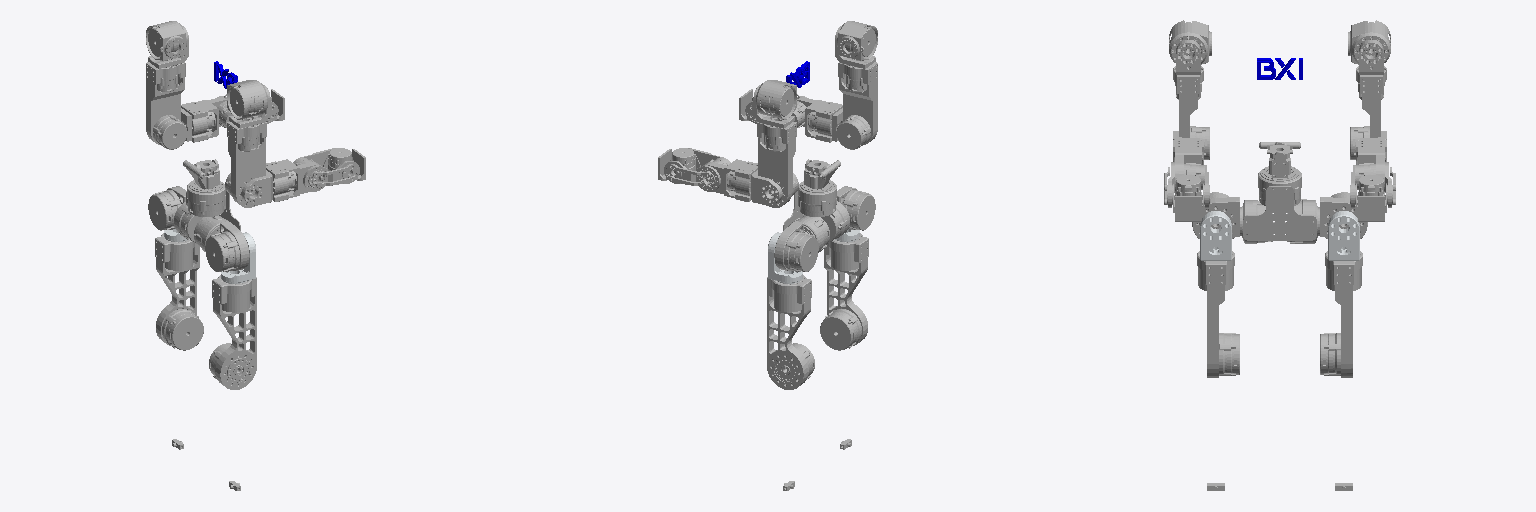
--- What the picture shows (computed from the rendered views, not written in the file) ---
Views: 3 orthographic renders of the robot side by side, from view 1: azimuth 30°, elevation 25°; view 2: azimuth 150°, elevation 25°; view 3: azimuth 270°, elevation 25°.
Robot: elf3 — 31 links, 30 joints (20 revolute, 10 fixed); root link base_link; default pose: all joints at 0.
Links seen in each view (by area): view 1: r_hip_z_link, l_hip_z_link, l_shld_z_link, waist_z_link, r_wrist_x_link, r_shld_z_link, r_hip_y_link, l_wrist_x_link, r_shld_y_link, l_shld_y_link, l_hip_y_link, r_elb_y_link (+3 smaller); view 2: l_hip_z_link, r_hip_z_link, r_shld_z_link, waist_z_link, l_wrist_x_link, l_shld_z_link, l_hip_y_link, r_wrist_x_link, l_shld_y_link, r_shld_y_link, r_hip_y_link, l_elb_y_link (+3 smaller); view 3: waist_z_link, l_hip_z_link, r_hip_z_link, l_wrist_x_link, r_wrist_x_link, l_shld_z_link, r_shld_z_link, l_hip_x_link, r_hip_x_link, r_shld_y_link, l_shld_y_link, l_hip_y_link (+9 smaller).
Link boxes in pixels (x1,y1,x2,y2): r_hip_z_link: [209, 275, 256, 389]; l_hip_z_link: [155, 233, 203, 350]; l_shld_z_link: [146, 62, 186, 149]; waist_z_link: [174, 180, 240, 251]; r_wrist_x_link: [266, 148, 359, 201]; r_shld_z_link: [225, 122, 266, 207]; r_hip_y_link: [205, 221, 249, 271]; l_wrist_x_link: [181, 96, 278, 142]; r_shld_y_link: [224, 80, 267, 119]; l_shld_y_link: [146, 21, 186, 60]; l_hip_y_link: [148, 186, 186, 230]; r_elb_y_link: [241, 170, 272, 205]; l_hip_z_link: [767, 275, 814, 389]; r_hip_z_link: [820, 233, 868, 350]; r_shld_z_link: [837, 62, 877, 149]; waist_z_link: [783, 180, 849, 252]; l_wrist_x_link: [664, 148, 757, 201]; l_shld_z_link: [757, 122, 798, 207]; l_hip_y_link: [774, 221, 818, 271]; r_wrist_x_link: [745, 96, 842, 142]; l_shld_y_link: [756, 80, 799, 119]; r_shld_y_link: [837, 21, 877, 60]; r_hip_y_link: [837, 186, 875, 230]; l_elb_y_link: [751, 170, 782, 205]; waist_z_link: [1242, 166, 1317, 243]; l_hip_z_link: [1320, 251, 1362, 377]; r_hip_z_link: [1197, 251, 1239, 377]; l_wrist_x_link: [1351, 140, 1395, 207]; r_wrist_x_link: [1164, 140, 1208, 207]; l_shld_z_link: [1350, 66, 1386, 159]; r_shld_z_link: [1173, 66, 1209, 159]; l_hip_x_link: [1328, 211, 1359, 260]; r_hip_x_link: [1200, 211, 1231, 260]; r_shld_y_link: [1169, 20, 1211, 66]; l_shld_y_link: [1348, 20, 1390, 66]; l_hip_y_link: [1318, 192, 1367, 238].
Bounding box of the posed robot: 0.3799 × 0.506 × 1.12 m (x, y, z).
Meshes: 30 distinct files referenced, 26 mesh visuals loaded (26 binary STL); not drawn: 5 (reference not matched to a file when rendering).

The robot description file, URDF, robot "elf3":
<?xml version="1.0" encoding="utf-8"?>
<robot
  name="elf3">
  <link
    name="base_link">
    <inertial>
       <origin
        xyz="-0.00015 0.000741 -0.051018"
        rpy="0 0 0" />
      <mass
        value="8.626914" />
      <inertia
        ixx="0.110724"
        ixy="-5e-06"
        ixz="-0.002238"
        iyy="0.064203"
        iyz="-0.000637"
        izz="0.066922" />
    </inertial>
    <visual>
      <origin
        xyz="0 0 0"
        rpy="0 0 0" />
      <geometry>
        <mesh
          filename="../meshes/base_link.STL" />
      </geometry>
      <material
        name="">
        <color
          rgba="0.75294 0.75294 0.75294 1" />
      </material>
    </visual>
    <collision>
      <origin
        xyz="0 0 0"
        rpy="0 0 0" />
      <geometry>
        <mesh
          filename="../meshes/base_link.STL" />
      </geometry>
    </collision>
  </link>
  <link
    name="waist_y_link">
    <inertial>
       <origin
        xyz="0.0 0.0 0.0"
        rpy="0 0 0" />
      <mass
        value="0.053167" />
      <inertia
        ixx="1e-05"
        ixy="0.0"
        ixz="0.0"
        iyy="1e-05"
        iyz="0.0"
        izz="1.8e-05" />
    </inertial>
    <visual>
      <origin
        xyz="0 0 0"
        rpy="0 0 0" />
      <geometry>
        <mesh
          filename="../meshes/waist_y_link.STL" />
      </geometry>
      <material
        name="">
        <color
          rgba="0.75294 0.75294 0.75294 1" />
      </material>
    </visual>
    <!-- <collision>
      <origin
        xyz="0 0 0"
        rpy="0 0 0" />
      <geometry>
        <mesh
          filename="../meshes/waist_y_link.STL" />
      </geometry>
    </collision> -->
  </link>
  <joint
    name="waist_y_joint"
    type="fixed">
    <origin
      xyz="0 0 -0.226"
      rpy="0 0 0" />
    <parent
      link="base_link" />
    <child
      link="waist_y_link" />
    <axis
      xyz="0 1 0" />
    <limit
      lower="-0.5235"
      upper="0.5235"
      effort="100"
      velocity="18" />
  </joint>
  <link
    name="waist_x_link">
    <inertial>
       <origin
        xyz="-0.007951 0.0 -0.02213"
        rpy="0 0 0" />
      <mass
        value="0.249175" />
      <inertia
        ixx="0.000122"
        ixy="0.0"
        ixz="4.6e-05"
        iyy="0.000181"
        iyz="0.0"
        izz="0.000176" />
    </inertial>
    <visual>
      <origin
        xyz="0 0 0"
        rpy="0 0 0" />
      <geometry>
        <mesh
          filename="../meshes/waist_x_link.STL" />
      </geometry>
      <material
        name="">
        <color
          rgba="0.752941176470588 0.752941176470588 0.752941176470588 1" />
      </material>
    </visual>
    <!-- <collision>
      <origin
        xyz="0 0 0"
        rpy="0 0 0" />
      <geometry>
        <mesh
          filename="../meshes/waist_x_link.STL" />
      </geometry>
    </collision> -->
  </link>
  <joint
    name="waist_x_joint"
    type="fixed">
    <origin
      xyz="0 0 0"
      rpy="0 0 0" />
    <parent
      link="waist_y_link" />
    <child
      link="waist_x_link" />
    <axis
      xyz="1 0 0" />
    <limit
      lower="-0.2617"
      upper="0.2617"
      effort="100"
      velocity="18" />
  </joint>
  <link
    name="waist_z_link">
    <inertial>
       <origin
        xyz="0.000904 1.2e-05 -0.139062"
        rpy="0 0 0" />
      <mass
        value="4.453262" />
      <inertia
        ixx="0.020324"
        ixy="-2e-06"
        ixz="1.1e-05"
        iyy="0.013729"
        iyz="-3e-06"
        izz="0.013433" />
    </inertial>
    <visual>
      <origin
        xyz="0 0 0"
        rpy="0 0 0" />
      <geometry>
        <mesh
          filename="../meshes/waist_z_link.STL" />
      </geometry>
      <material
        name="">
        <color
          rgba="0.752941176470588 0.752941176470588 0.752941176470588 1" />
      </material>
    </visual>
    <collision>
      <origin
        xyz="0 0 0"
        rpy="0 0 0" />
      <geometry>
        <mesh
          filename="../meshes/waist_z_link.STL" />
      </geometry>
    </collision>
  </link>
  <joint
    name="waist_z_joint"
    type="fixed">
    <origin
      xyz="0 0 0"
      rpy="0 0 0" />
    <parent
      link="waist_x_link" />
    <child
      link="waist_z_link" />
    <axis
      xyz="0 0 1" />
    <limit
      lower="-1.57"
      upper="1.57"
      effort="100"
      velocity="18" />
  </joint>
  <link
    name="l_hip_y_link">
    <inertial>
       <origin
        xyz="-0.017998 -0.002549 0.000878"
        rpy="0 0 0" />
      <mass
        value="1.676311" />
      <inertia
        ixx="0.00273"
        ixy="7.9e-05"
        ixz="-2.5e-05"
        iyy="0.001915"
        iyz="4.9e-05"
        izz="0.002048" />
    </inertial>
    <visual>
      <origin
        xyz="0 0 0"
        rpy="0 0 0" />
      <geometry>
        <mesh
          filename="../meshes/l_hip_y_link.STL" />
      </geometry>
      <material
        name="">
        <color
          rgba="0.752941176470588 0.752941176470588 0.752941176470588 1" />
      </material>
    </visual>
    <collision>
      <origin
        xyz="0 0 0"
        rpy="0 0 0" />
      <geometry>
        <mesh
          filename="../meshes/l_hip_y_link.STL" />
      </geometry>
    </collision>
  </link>
  <joint
    name="l_hip_y_joint"
    type="revolute">
    <origin
      xyz="0 0.14 -0.1685"
      rpy="0 0 0" />
    <parent
      link="waist_z_link" />
    <child
      link="l_hip_y_link" />
    <axis
      xyz="0 1 0" />
    <limit
      lower="-1.57"
      upper="1.57"
      effort="100"
      velocity="18" />
  </joint>
  <link
    name="l_hip_x_link">
    <inertial>
       <origin
        xyz="0.019502 0.0 -0.033436"
        rpy="0 0 0" />
      <mass
        value="0.503258" />
      <inertia
        ixx="0.000797"
        ixy="0.0"
        ixz="-0.00012"
        iyy="0.000739"
        iyz="0.0"
        izz="0.00037" />
    </inertial>
    <visual>
      <origin
        xyz="0 0 0"
        rpy="0 0 0" />
      <geometry>
        <mesh
          filename="../meshes/l_hip_x_link.STL" />
      </geometry>
      <material
        name="">
        <color
          rgba="0.898039215686275 0.917647058823529 0.929411764705882 1" />
      </material>
    </visual>
    <!-- <collision>
      <origin
        xyz="0 0 0"
        rpy="0 0 0" />
      <geometry>
        <mesh
          filename="../meshes/l_hip_x_link.STL" />
      </geometry>
    </collision> -->
  </link>
  <joint
    name="l_hip_x_joint"
    type="revolute">
    <origin
      xyz="0 0 0"
      rpy="0 0 0" />
    <parent
      link="l_hip_y_link" />
    <child
      link="l_hip_x_link" />
    <axis
      xyz="1 0 0" />
    <limit
      lower="-0.5235"
      upper="1.57"
      effort="100"
      velocity="18" />
  </joint>
  <link
    name="l_hip_z_link">
    <inertial>
       <origin
        xyz="0.001015 -0.00614 -0.230109"
        rpy="0 0 0" />
      <mass
        value="3.037012" />
      <inertia
        ixx="0.032187"
        ixy="-3.9e-05"
        ixz="4.2e-05"
        iyy="0.033337"
        iyz="-0.001791"
        izz="0.003471" />
    </inertial>
    <visual>
      <origin
        xyz="0 0 0"
        rpy="0 0 0" />
      <geometry>
        <mesh
          filename="../meshes/l_hip_z_link.STL" />
      </geometry>
      <material
        name="">
        <color
          rgba="0.752941176470588 0.752941176470588 0.752941176470588 1" />
      </material>
    </visual>
    <collision>
      <origin
        xyz="0 0 0"
        rpy="0 0 0" />
      <geometry>
        <mesh
          filename="../meshes/l_hip_z_link.STL" />
      </geometry>
    </collision>
  </link>
  <joint
    name="l_hip_z_joint"
    type="revolute">
    <origin
      xyz="0 0 0"
      rpy="0 0 0" />
    <parent
      link="l_hip_x_link" />
    <child
      link="l_hip_z_link" />
    <axis
      xyz="0 0 1" />
    <limit
      lower="-1.57"
      upper="1.57"
      effort="60"
      velocity="18" />
  </joint>
  <link
    name="l_knee_y_link">
    <inertial>
       <origin
        xyz="0.007103 0.008776 -0.144218"
        rpy="0 0 0" />
      <mass
        value="1.905959" />
      <inertia
        ixx="0.013863"
        ixy="8.5e-05"
        ixz="9.1e-05"
        iyy="0.013532"
        iyz="-0.001505"
        izz="0.001285" />
    </inertial>
    <visual>
      <origin
        xyz="0 0 0"
        rpy="0 0 0" />
      <geometry>
        <mesh
          filename="../meshes/l_knee_y_link.STL" />
      </geometry>
      <material
        name="">
        <color
          rgba="0.752941176470588 0.752941176470588 0.752941176470588 1" />
      </material>
    </visual>
    <collision>
      <origin
        xyz="0 0 0.04"
        rpy="0 0 0" />
      <geometry>
        <mesh
          filename="../meshes/l_knee_y_link.STL" />
      </geometry>
    </collision>
  </link>
  <joint
    name="l_knee_y_joint"
    type="revolute">
    <origin
      xyz="0 0 -0.32"
      rpy="0 0 0" />
    <parent
      link="l_hip_z_link" />
    <child
      link="l_knee_y_link" />
    <axis
      xyz="0 1 0" />
    <limit
      lower="-0.0872"
      upper="2.6178"
      effort="150"
      velocity="18" />
  </joint>
  <link
    name="l_ankle_y_link">
    <inertial>
       <origin
        xyz="0.0 0.0 0.0"
        rpy="0 0 0" />
      <mass
        value="0.014897" />
      <inertia
        ixx="2e-06"
        ixy="0.0"
        ixz="0.0"
        iyy="1e-06"
        iyz="0.0"
        izz="2e-06" />
    </inertial>
    <visual>
      <origin
        xyz="0 0 0"
        rpy="0 0 0" />
      <geometry>
        <mesh
          filename="../meshes/l_ankle_y_link.STL" />
      </geometry>
      <material
        name="">
        <color
          rgba="0.752941176470588 0.752941176470588 0.752941176470588 1" />
      </material>
    </visual>
    <!-- <collision>
      <origin
        xyz="0 0 0"
        rpy="0 0 0" />
      <geometry>
        <mesh
          filename="../meshes/l_ankle_y_link.STL" />
      </geometry>
    </collision> -->
  </link>
  <joint
    name="l_ankle_y_joint"
    type="revolute">
    <origin
      xyz="0 0 -0.32"
      rpy="0 0 0" />
    <parent
      link="l_knee_y_link" />
    <child
      link="l_ankle_y_link" />
    <axis
      xyz="0 1 0" />
    <limit
      lower="-0.8726"
      upper="0.8726"
      effort="50"
      velocity="18" />
  </joint>
  <link
    name="l_ankle_x_link">
    <inertial>
       <origin
        xyz="0.017869 0.0 -0.026082"
        rpy="0 0 0" />
      <mass
        value="0.824682" />
      <inertia
        ixx="0.000458"
        ixy="0.0"
        ixz="5e-05"
        iyy="0.003386"
        iyz="0.0"
        izz="0.003747" />
    </inertial>
    <visual>
      <origin
        xyz="0 0 -0.03"
        rpy="0 0 0" />
      <geometry>
        <mesh
          filename="../meshes/foot.STL" />
      </geometry>
      <material
        name="">
        <color
          rgba="0.752941176470588 0.752941176470588 0.752941176470588 1" />
      </material>
    </visual>
    <collision>
      <origin
        xyz="0 0 -0.03"
        rpy="0 0 0" />
      <geometry>
        <mesh
          filename="../meshes/foot.STL" />
      </geometry>
    </collision>
  </link>
  <joint
    name="l_ankle_x_joint"
    type="revolute">
    <origin
      xyz="0 0 0"
      rpy="0 0 0" />
    <parent
      link="l_ankle_y_link" />
    <child
      link="l_ankle_x_link" />
    <axis
      xyz="1 0 0" />
    <limit
      lower="-0.349"
      upper="0.349"
      effort="20"
      velocity="18" />
  </joint>
  <link
    name="r_hip_y_link">
    <inertial>
       <origin
        xyz="-0.017998 0.002549 0.000878"
        rpy="0 0 0" />
      <mass
        value="1.67631" />
      <inertia
        ixx="0.00273"
        ixy="-7.9e-05"
        ixz="-2.5e-05"
        iyy="0.001915"
        iyz="-4.9e-05"
        izz="0.002048" />
    </inertial>
    <visual>
      <origin
        xyz="0 0 0"
        rpy="0 0 0" />
      <geometry>
        <mesh
          filename="../meshes/r_hip_y_link.STL" />
      </geometry>
      <material
        name="">
        <color
          rgba="0.752941176470588 0.752941176470588 0.752941176470588 1" />
      </material>
    </visual>
    <collision>
      <origin
        xyz="0 0 0"
        rpy="0 0 0" />
      <geometry>
        <mesh
          filename="../meshes/r_hip_y_link.STL" />
      </geometry>
    </collision>
  </link>
  <joint
    name="r_hip_y_joint"
    type="revolute">
    <origin
      xyz="0 -0.14 -0.1685"
      rpy="0 0 0" />
    <parent
      link="waist_z_link" />
    <child
      link="r_hip_y_link" />
    <axis
      xyz="0 1 0" />
    <limit
      lower="-1.57"
      upper="1.57"
      effort="100"
      velocity="18" />
  </joint>
  <link
    name="r_hip_x_link">
    <inertial>
       <origin
        xyz="0.019502 0.0 -0.033436"
        rpy="0 0 0" />
      <mass
        value="0.503259" />
      <inertia
        ixx="0.000797"
        ixy="0.0"
        ixz="-0.00012"
        iyy="0.000739"
        iyz="0.0"
        izz="0.00037" />
    </inertial>
    <visual>
      <origin
        xyz="0 0 0"
        rpy="0 0 0" />
      <geometry>
        <mesh
          filename="../meshes/r_hip_x_link.STL" />
      </geometry>
      <material
        name="">
        <color
          rgba="0.898039215686275 0.917647058823529 0.929411764705882 1" />
      </material>
    </visual>
    <!-- <collision>
      <origin
        xyz="0 0 0"
        rpy="0 0 0" />
      <geometry>
        <mesh
          filename="../meshes/r_hip_x_link.STL" />
      </geometry>
    </collision> -->
  </link>
  <joint
    name="r_hip_x_joint"
    type="revolute">
    <origin
      xyz="0 0 0"
      rpy="0 0 0" />
    <parent
      link="r_hip_y_link" />
    <child
      link="r_hip_x_link" />
    <axis
      xyz="1 0 0" />
    <limit
      lower="-1.57"
      upper="0.5235"
      effort="100"
      velocity="18" />
  </joint>
  <link
    name="r_hip_z_link">
    <inertial>
       <origin
        xyz="0.001015 0.00614 -0.230109"
        rpy="0 0 0" />
      <mass
        value="3.037014" />
      <inertia
        ixx="0.032187"
        ixy="3.9e-05"
        ixz="4.2e-05"
        iyy="0.033337"
        iyz="0.001791"
        izz="0.003471" />
    </inertial>
    <visual>
      <origin
        xyz="0 0 0"
        rpy="0 0 0" />
      <geometry>
        <mesh
          filename="../meshes/r_hip_z_link.STL" />
      </geometry>
      <material
        name="">
        <color
          rgba="0.752941176470588 0.752941176470588 0.752941176470588 1" />
      </material>
    </visual>
    <collision>
      <origin
        xyz="0 0 0"
        rpy="0 0 0" />
      <geometry>
        <mesh
          filename="../meshes/r_hip_z_link.STL" />
      </geometry>
    </collision>
  </link>
  <joint
    name="r_hip_z_joint"
    type="revolute">
    <origin
      xyz="0 0 0"
      rpy="0 0 0" />
    <parent
      link="r_hip_x_link" />
    <child
      link="r_hip_z_link" />
    <axis
      xyz="0 0 1" />
    <limit
      lower="-1.57"
      upper="1.57"
      effort="60"
      velocity="18" />
  </joint>
  <link
    name="r_knee_y_link">
    <inertial>
       <origin
        xyz="0.007103 -0.008776 -0.144218"
        rpy="0 0 0" />
      <mass
        value="1.905958" />
      <inertia
        ixx="0.013863"
        ixy="-8.5e-05"
        ixz="9.1e-05"
        iyy="0.013532"
        iyz="0.001505"
        izz="0.001285" />
    </inertial>
    <visual>
      <origin
        xyz="0 0 0"
        rpy="0 0 0" />
      <geometry>
        <mesh
          filename="../meshes/r_knee_y_link.STL" />
      </geometry>
      <material
        name="">
        <color
          rgba="0.752941176470588 0.752941176470588 0.752941176470588 1" />
      </material>
    </visual>
    <collision>
      <origin
        xyz="0 0 0.04"
        rpy="0 0 0" />
      <geometry>
        <mesh
          filename="../meshes/r_knee_y_link.STL" />
      </geometry>
    </collision>
  </link>
  <joint
    name="r_knee_y_joint"
    type="revolute">
    <origin
      xyz="0 0 -0.32"
      rpy="0 0 0" />
    <parent
      link="r_hip_z_link" />
    <child
      link="r_knee_y_link" />
    <axis
      xyz="0 1 0" />
    <limit
      lower="-0.0872"
      upper="2.6178"
      effort="150"
      velocity="18" />
  </joint>
  <link
    name="r_ankle_y_link">
    <inertial>
       <origin
        xyz="0.0 0.0 0.0"
        rpy="0 0 0" />
      <mass
        value="0.014897" />
      <inertia
        ixx="2e-06"
        ixy="0.0"
        ixz="0.0"
        iyy="1e-06"
        iyz="0.0"
        izz="2e-06" />
    </inertial>
    <visual>
      <origin
        xyz="0 0 0"
        rpy="0 0 0" />
      <geometry>
        <mesh
          filename="../meshes/r_ankle_y_link.STL" />
      </geometry>
      <material
        name="">
        <color
          rgba="0.752941176470588 0.752941176470588 0.752941176470588 1" />
      </material>
    </visual>
    <!-- <collision>
      <origin
        xyz="0 0 0"
        rpy="0 0 0" />
      <geometry>
        <mesh
          filename="../meshes/r_ankle_y_link.STL" />
      </geometry>
    </collision> -->
  </link>
  <joint
    name="r_ankle_y_joint"
    type="revolute">
    <origin
      xyz="0 0 -0.32"
      rpy="0 0 0" />
    <parent
      link="r_knee_y_link" />
    <child
      link="r_ankle_y_link" />
    <axis
      xyz="0 1 0" />
    <limit
      lower="-0.8726"
      upper="0.8726"
      effort="50"
      velocity="18" />
  </joint>
  <link
    name="r_ankle_x_link">
    <inertial>
       <origin
        xyz="0.017869 0.0 -0.026082"
        rpy="0 0 0" />
      <mass
        value="0.824682" />
      <inertia
        ixx="0.000458"
        ixy="0.0"
        ixz="5e-05"
        iyy="0.003386"
        iyz="0.0"
        izz="0.003747" />
    </inertial>
    <visual>
      <origin
        xyz="0 0 -0.03"
        rpy="0 0 0" />
      <geometry>
        <mesh
          filename="../meshes/foot.STL" />
      </geometry>
      <material
        name="">
        <color
          rgba="0.752941176470588 0.752941176470588 0.752941176470588 1" />
      </material>
    </visual>
    <collision>
      <origin
        xyz="0 0 -0.03"
        rpy="0 0 0" />
      <geometry>
        <mesh
          filename="../meshes/foot.STL" />
      </geometry>
    </collision>
  </link>
  <joint
    name="r_ankle_x_joint"
    type="revolute">
    <origin
      xyz="0 0 0"
      rpy="0 0 0" />
    <parent
      link="r_ankle_y_link" />
    <child
      link="r_ankle_x_link" />
    <axis
      xyz="1 0 0" />
    <limit
      lower="-0.349"
      upper="0.349"
      effort="20"
      velocity="18" />
  </joint>
  <link
    name="l_shld_y_link">
    <inertial>
       <origin
        xyz="0.008071 -0.003573 -5.8e-05"
        rpy="0 0 0" />
      <mass
        value="1.063" />
      <inertia
        ixx="0.001215"
        ixy="-3.2e-05"
        ixz="-2e-06"
        iyy="0.000887"
        iyz="0.0"
        izz="0.000942" />
    </inertial>
    <visual>
      <origin
        xyz="0 0 0"
        rpy="0 0 0" />
      <geometry>
        <mesh
          filename="../meshes/l_shld_y_link.STL" />
      </geometry>
      <material
        name="">
        <color
          rgba="0.752941176470588 0.752941176470588 0.752941176470588 1" />
      </material>
    </visual>
    <collision>
      <origin
        xyz="0 0 0"
        rpy="0 0 0" />
      <geometry>
        <mesh
          filename="../meshes/l_shld_y_link.STL" />
      </geometry>
    </collision>
  </link>
  <joint
    name="l_shld_y_joint"
    type="revolute">
    <origin
      xyz="0 0.2 0.035"
      rpy="0 0 0" />
    <parent
      link="base_link" />
    <child
      link="l_shld_y_link" />
    <axis
      xyz="0 1 0" />
    <limit
      lower="-3.14"
      upper="1.57"
      effort="60"
      velocity="18" />
  </joint>
  <link
    name="l_shld_x_link">
    <inertial>
       <origin
        xyz="0.023699 0.0 -0.034476"
        rpy="0 0 0" />
      <mass
        value="0.236185" />
      <inertia
        ixx="0.000216"
        ixy="0.0"
        ixz="-9.2e-05"
        iyy="0.000309"
        iyz="0.0"
        izz="0.00022" />
    </inertial>
    <visual>
      <origin
        xyz="0 0 0"
        rpy="0 0 0" />
      <geometry>
        <mesh
          filename="../meshes/l_shld_x_link.STL" />
      </geometry>
      <material
        name="">
        <color
          rgba="0.752941176470588 0.752941176470588 0.752941176470588 1" />
      </material>
    </visual>
    <!-- <collision>
      <origin
        xyz="0 0 0"
        rpy="0 0 0" />
      <geometry>
        <mesh
          filename="../meshes/l_shld_x_link.STL" />
      </geometry>
    </collision> -->
  </link>
  <joint
    name="l_shld_x_joint"
    type="revolute">
    <origin
      xyz="0 0 0"
      rpy="0 0 0" />
    <parent
      link="l_shld_y_link" />
    <child
      link="l_shld_x_link" />
    <axis
      xyz="1 0 0" />
    <limit
      lower="-0.349"
      upper="1.57"
      effort="60"
      velocity="18" />
  </joint>
  <link
    name="l_shld_z_link">
    <inertial>
       <origin
        xyz="-2e-06 -0.001624 -0.171999"
        rpy="0 0 0" />
      <mass
        value="2.15781" />
      <inertia
        ixx="0.010569"
        ixy="0.0"
        ixz="0.0"
        iyy="0.011196"
        iyz="-0.000453"
        izz="0.001718" />
    </inertial>
    <visual>
      <origin
        xyz="0 0 0"
        rpy="0 0 0" />
      <geometry>
        <mesh
          filename="../meshes/l_shld_z_link.STL" />
      </geometry>
      <material
        name="">
        <color
          rgba="0.752941176470588 0.752941176470588 0.752941176470588 1" />
      </material>
    </visual>
    <collision>
      <origin
        xyz="0 0 0"
        rpy="0 0 0" />
      <geometry>
        <mesh
          filename="../meshes/l_shld_z_link.STL" />
      </geometry>
    </collision>
  </link>
  <joint
    name="l_shld_z_joint"
    type="revolute">
    <origin
      xyz="0 0 0"
      rpy="0 0 0" />
    <parent
      link="l_shld_x_link" />
    <child
      link="l_shld_z_link" />
    <axis
      xyz="0 0 1" />
    <limit
      lower="-1.57"
      upper="1.57"
      effort="25"
      velocity="18" />
  </joint>
  <link
    name="l_elb_y_link">
    <inertial>
       <origin
        xyz="0.033158 0.01458 0.0"
        rpy="0 0 0" />
      <mass
        value="0.277719" />
      <inertia
        ixx="0.00019"
        ixy="6.3e-05"
        ixz="0.0"
        iyy="0.00028"
        iyz="0.0"
        izz="0.00025" />
    </inertial>
    <visual>
      <origin
        xyz="0 0 0"
        rpy="0 0 0" />
      <geometry>
        <mesh
          filename="../meshes/l_elb_y_link.STL" />
      </geometry>
      <material
        name="">
        <color
          rgba="0.752941176470588 0.752941176470588 0.752941176470588 1" />
      </material>
    </visual>
    <!-- <collision>
      <origin
        xyz="0 0 0"
        rpy="0 0 0" />
      <geometry>
        <mesh
          filename="../meshes/l_elb_y_link.STL" />
      </geometry>
    </collision> -->
  </link>
  <joint
    name="l_elb_y_joint"
    type="revolute">
    <origin
      xyz="0 0 -0.2405"
      rpy="0 0 0" />
    <parent
      link="l_shld_z_link" />
    <child
      link="l_elb_y_link" />
    <axis
      xyz="0 1 0" />
    <limit
      lower="-1.0471"
      upper="1.57"
      effort="60"
      velocity="18" />
  </joint>
  <link
    name="l_wrist_x_link">
    <inertial>
       <origin
        xyz="-0.125678 0.00065 0.0"
        rpy="0 0 0" />
      <mass
        value="1.729445" />
      <inertia
        ixx="0.001524"
        ixy="-3.9e-05"
        ixz="3e-06"
        iyy="0.004851"
        iyz="0.0"
        izz="0.005064" />
    </inertial>
    <visual>
      <origin
        xyz="0 0 0"
        rpy="0 0 0" />
      <geometry>
        <mesh
          filename="../meshes/l_wrist_x_link.STL" />
      </geometry>
      <material
        name="">
        <color
          rgba="0.752941176470588 0.752941176470588 0.752941176470588 1" />
      </material>
    </visual>
    <collision>
      <origin
        xyz="0 0 0"
        rpy="0 0 0" />
      <geometry>
        <mesh
          filename="../meshes/l_wrist_x_link.STL" />
      </geometry>
    </collision>
  </link>
  <joint
    name="l_wrist_x_joint"
    type="fixed">
    <origin
      xyz="0.2655 0 0"
      rpy="0 0 0" />
    <parent
      link="l_elb_y_link" />
    <child
      link="l_wrist_x_link" />
    <axis
      xyz="1 0 0" />
    <limit
      lower="-1.57"
      upper="1.57"
      effort="25"
      velocity="18" />
  </joint>
  <link
    name="l_wrist_y_link">
    <inertial>
       <origin
        xyz="3e-06 -1.5e-05 0.001495"
        rpy="0 0 0" />
      <mass
        value="0.754134" />
      <inertia
        ixx="0.000695"
        ixy="0.0"
        ixz="0.0"
        iyy="0.000429"
        iyz="0.0"
        izz="0.000654" />
    </inertial>
    <visual>
      <origin
        xyz="0 0 0"
        rpy="0 0 0" />
      <geometry>
        <mesh
          filename="../meshes/l_wrist_y_link.STL" />
      </geometry>
      <material
        name="">
        <color
          rgba="0.752941176470588 0.752941176470588 0.752941176470588 1" />
      </material>
    </visual>
    <!-- <collision>
      <origin
        xyz="0 0 0"
        rpy="0 0 0" />
      <geometry>
        <mesh
          filename="../meshes/l_wrist_y_link.STL" />
      </geometry>
    </collision> -->
  </link>
  <joint
    name="l_wrist_y_joint"
    type="fixed">
    <origin
      xyz="0 0 0"
      rpy="0 0 0" />
    <parent
      link="l_wrist_x_link" />
    <child
      link="l_wrist_y_link" />
    <axis
      xyz="0 1 0" />
    <limit
      lower="-0.7853"
      upper="0.7853"
      effort="7"
      velocity="18" />
  </joint>
  <link
    name="l_wrist_z_link">
    <inertial>
       <origin
        xyz="0.034746 0.0 -0.020653"
        rpy="0 0 0" />
      <mass
        value="0.113662" />
      <inertia
        ixx="6.5e-05"
        ixy="0.0"
        ixz="-2.5e-05"
        iyy="0.000104"
        iyz="0.0"
        izz="9.7e-05" />
    </inertial>
    <visual>
      <origin
        xyz="0 0 0"
        rpy="0 0 0" />
      <geometry>
        <mesh
          filename="../meshes/l_wrist_z_link.STL" />
      </geometry>
      <material
        name="">
        <color
          rgba="0.752941176470588 0.752941176470588 0.752941176470588 1" />
      </material>
    </visual>
    <!-- <collision>
      <origin
        xyz="0 0 0"
        rpy="0 0 0" />
      <geometry>
        <mesh
          filename="../meshes/l_wrist_z_link.STL" />
      </geometry>
    </collision> -->
  </link>
  <joint
    name="l_wrist_z_joint"
    type="fixed">
    <origin
      xyz="0 0 0"
      rpy="0 0 0" />
    <parent
      link="l_wrist_y_link" />
    <child
      link="l_wrist_z_link" />
    <axis
      xyz="0 0 1" />
    <limit
      lower="-0.7853"
      upper="0.7853"
      effort="7"
      velocity="18" />
  </joint>
  <link
    name="r_shld_y_link">
    <inertial>
       <origin
        xyz="0.008071 0.003573 -5.8e-05"
        rpy="0 0 0" />
      <mass
        value="1.063" />
      <inertia
        ixx="0.001215"
        ixy="3.2e-05"
        ixz="-2e-06"
        iyy="0.000887"
        iyz="0.0"
        izz="0.000942" />
    </inertial>
    <visual>
      <origin
        xyz="0 0 0"
        rpy="0 0 0" />
      <geometry>
        <mesh
          filename="../meshes/r_shld_y_link.STL" />
      </geometry>
      <material
        name="">
        <color
          rgba="0.752941176470588 0.752941176470588 0.752941176470588 1" />
      </material>
    </visual>
    <collision>
      <origin
        xyz="0 0 0"
        rpy="0 0 0" />
      <geometry>
        <mesh
          filename="../meshes/r_shld_y_link.STL" />
      </geometry>
    </collision>
  </link>
  <joint
    name="r_shld_y_joint"
    type="revolute">
    <origin
      xyz="0 -0.2 0.035"
      rpy="0 0 0" />
    <parent
      link="base_link" />
    <child
      link="r_shld_y_link" />
    <axis
      xyz="0 1 0" />
    <limit
      lower="-3.14"
      upper="1.57"
      effort="60"
      velocity="18" />
  </joint>
  <link
    name="r_shld_x_link">
    <inertial>
       <origin
        xyz="0.023699 0.0 -0.034476"
        rpy="0 0 0" />
      <mass
        value="0.236185" />
      <inertia
        ixx="0.000216"
        ixy="0.0"
        ixz="-9.2e-05"
        iyy="0.000309"
        iyz="0.0"
        izz="0.00022" />
    </inertial>
    <visual>
      <origin
        xyz="0 0 0"
        rpy="0 0 0" />
      <geometry>
        <mesh
          filename="../meshes/r_shld_x_link.STL" />
      </geometry>
      <material
        name="">
        <color
          rgba="0.752941176470588 0.752941176470588 0.752941176470588 1" />
      </material>
    </visual>
    <!-- <collision>
      <origin
        xyz="0 0 0"
        rpy="0 0 0" />
      <geometry>
        <mesh
          filename="../meshes/r_shld_x_link.STL" />
      </geometry>
    </collision> -->
  </link>
  <joint
    name="r_shld_x_joint"
    type="revolute">
    <origin
      xyz="0 0 0"
      rpy="0 0 0" />
    <parent
      link="r_shld_y_link" />
    <child
      link="r_shld_x_link" />
    <axis
      xyz="1 0 0" />
    <limit
      lower="-1.57"
      upper="0.349"
      effort="60"
      velocity="18" />
  </joint>
  <link
    name="r_shld_z_link">
    <inertial>
       <origin
        xyz="-2e-06 0.001624 -0.171999"
        rpy="0 0 0" />
      <mass
        value="2.15781" />
      <inertia
        ixx="0.010569"
        ixy="0.0"
        ixz="0.0"
        iyy="0.011196"
        iyz="0.000453"
        izz="0.001718" />
    </inertial>
    <visual>
      <origin
        xyz="0 0 0"
        rpy="0 0 0" />
      <geometry>
        <mesh
          filename="../meshes/r_shld_z_link.STL" />
      </geometry>
      <material
        name="">
        <color
          rgba="0.752941176470588 0.752941176470588 0.752941176470588 1" />
      </material>
    </visual>
    <collision>
      <origin
        xyz="0 0 0"
        rpy="0 0 0" />
      <geometry>
        <mesh
          filename="../meshes/r_shld_z_link.STL" />
      </geometry>
    </collision>
  </link>
  <joint
    name="r_shld_z_joint"
    type="revolute">
    <origin
      xyz="0 0 0"
      rpy="0 0 0" />
    <parent
      link="r_shld_x_link" />
    <child
      link="r_shld_z_link" />
    <axis
      xyz="0 0 1" />
    <limit
      lower="-1.57"
      upper="1.57"
      effort="25"
      velocity="18" />
  </joint>
  <link
    name="r_elb_y_link">
    <inertial>
       <origin
        xyz="0.033158 -0.01458 0.0"
        rpy="0 0 0" />
      <mass
        value="0.277718" />
      <inertia
        ixx="0.00019"
        ixy="-6.3e-05"
        ixz="0.0"
        iyy="0.00028"
        iyz="0.0"
        izz="0.00025" />
    </inertial>
    <visual>
      <origin
        xyz="0 0 0"
        rpy="0 0 0" />
      <geometry>
        <mesh
          filename="../meshes/r_elb_y_link.STL" />
      </geometry>
      <material
        name="">
        <color
          rgba="0.752941176470588 0.752941176470588 0.752941176470588 1" />
      </material>
    </visual>
    <!-- <collision>
      <origin
        xyz="0 0 0"
        rpy="0 0 0" />
      <geometry>
        <mesh
          filename="../meshes/r_elb_y_link.STL" />
      </geometry>
    </collision> -->
  </link>
  <joint
    name="r_elb_y_joint"
    type="revolute">
    <origin
      xyz="0 0 -0.2405"
      rpy="0 0 0" />
    <parent
      link="r_shld_z_link" />
    <child
      link="r_elb_y_link" />
    <axis
      xyz="0 1 0" />
    <limit
      lower="-1.0471"
      upper="1.57"
      effort="60"
      velocity="18" />
  </joint>
  <link
    name="r_wrist_x_link">
    <inertial>
       <origin
        xyz="-0.125678 -0.00065 0.0"
        rpy="0 0 0" />
      <mass
        value="1.729445" />
      <inertia
        ixx="0.001524"
        ixy="3.9e-05"
        ixz="3e-06"
        iyy="0.004851"
        iyz="0.0"
        izz="0.005064" />
    </inertial>
    <visual>
      <origin
        xyz="0 0 0"
        rpy="0 0 0" />
      <geometry>
        <mesh
          filename="../meshes/r_wrist_x_link.STL" />
      </geometry>
      <material
        name="">
        <color
          rgba="0.752941176470588 0.752941176470588 0.752941176470588 1" />
      </material>
    </visual>
    <collision>
      <origin
        xyz="0 0 0"
        rpy="0 0 0" />
      <geometry>
        <mesh
          filename="../meshes/r_wrist_x_link.STL" />
      </geometry>
    </collision>
  </link>
  <joint
    name="r_wrist_x_joint"
    type="fixed">
    <origin
      xyz="0.2655 0 0"
      rpy="0 0 0" />
    <parent
      link="r_elb_y_link" />
    <child
      link="r_wrist_x_link" />
    <axis
      xyz="1 0 0" />
    <limit
      lower="-1.57"
      upper="1.57"
      effort="25"
      velocity="18" />
  </joint>
  <link
    name="r_wrist_y_link">
    <inertial>
       <origin
        xyz="3e-06 1.5e-05 0.001495"
        rpy="0 0 0" />
      <mass
        value="0.754134" />
      <inertia
        ixx="0.000695"
        ixy="0.0"
        ixz="0.0"
        iyy="0.000429"
        iyz="0.0"
        izz="0.000654" />
    </inertial>
    <visual>
      <origin
        xyz="0 0 0"
        rpy="0 0 0" />
      <geometry>
        <mesh
          filename="../meshes/r_wrist_y_link.STL" />
      </geometry>
      <material
        name="">
        <color
          rgba="0.752941176470588 0.752941176470588 0.752941176470588 1" />
      </material>
    </visual>
    <!-- <collision>
      <origin
        xyz="0 0 0"
        rpy="0 0 0" />
      <geometry>
        <mesh
          filename="../meshes/r_wrist_y_link.STL" />
      </geometry>
    </collision> -->
  </link>
  <joint
    name="r_wrist_y_joint"
    type="fixed">
    <origin
      xyz="0 0 0"
      rpy="0 0 0" />
    <parent
      link="r_wrist_x_link" />
    <child
      link="r_wrist_y_link" />
    <axis
      xyz="0 1 0" />
    <limit
      lower="-0.7853"
      upper="0.7853"
      effort="7"
      velocity="18" />
  </joint>
  <link
    name="r_wrist_z_link">
    <inertial>
       <origin
        xyz="0.034746 0.0 -0.020653"
        rpy="0 0 0" />
      <mass
        value="0.113662" />
      <inertia
        ixx="6.5e-05"
        ixy="0.0"
        ixz="-2.5e-05"
        iyy="0.000104"
        iyz="0.0"
        izz="9.7e-05" />
    </inertial>
    <visual>
      <origin
        xyz="0 0 0"
        rpy="0 0 0" />
      <geometry>
        <mesh
          filename="../meshes/r_wrist_z_link.STL" />
      </geometry>
      <material
        name="">
        <color
          rgba="0.752941176470588 0.752941176470588 0.752941176470588 1" />
      </material>
    </visual>
    <!-- <collision>
      <origin
        xyz="0 0 0"
        rpy="0 0 0" />
      <geometry>
        <mesh
          filename="../meshes/r_wrist_z_link.STL" />
      </geometry>
    </collision> -->
  </link>
  <joint
    name="r_wrist_z_joint"
    type="fixed">
    <origin
      xyz="0 0 0"
      rpy="0 0 0" />
    <parent
      link="r_wrist_y_link" />
    <child
      link="r_wrist_z_link" />
    <axis
      xyz="0 0 1" />
    <limit
      lower="-0.7853"
      upper="0.7853"
      effort="7"
      velocity="18" />
  </joint>

  <joint name="logo_joint" type="fixed">
    <origin xyz="0.06 0 0" rpy="0 0 0"/>
    <parent link="base_link"/>
    <child link="logo_link"/>
  </joint>
  <link name="logo_link">
    <visual>
      <origin xyz="0 0 0" rpy="0 0 0"/>
      <geometry>
        <mesh filename="../meshes/logo.STL"/>
      </geometry>
      <material
        name="">
        <color
          rgba="0 0 1 1" />
      </material>
    </visual>
  </link>

</robot>
